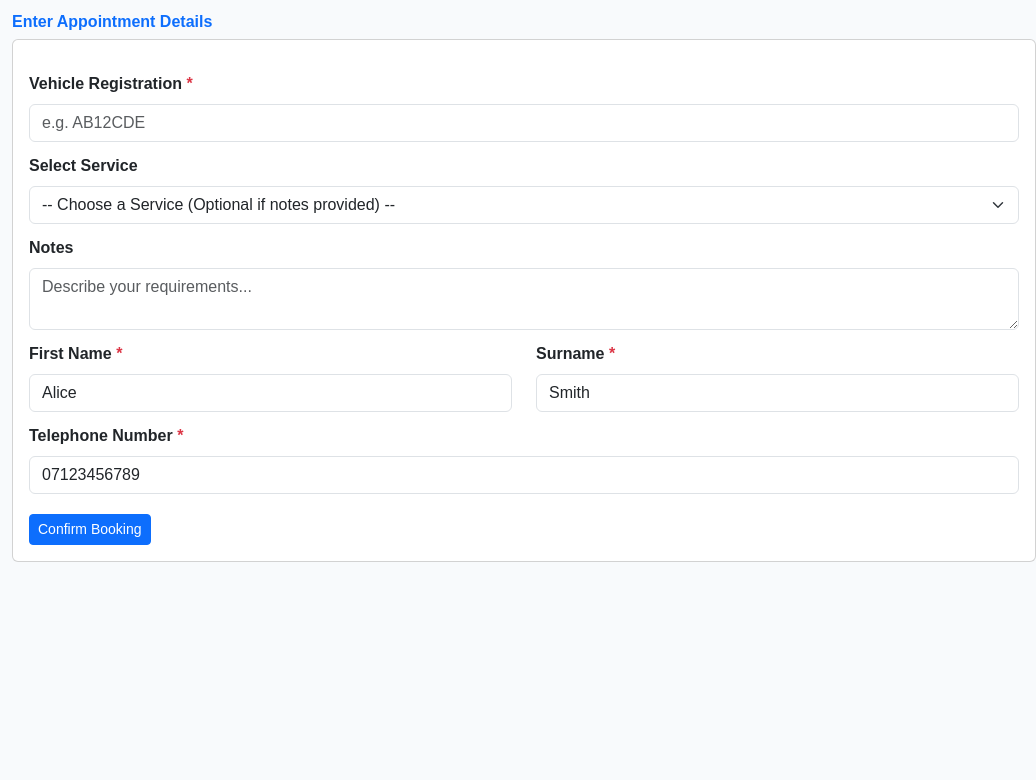
it: BookingDetailsForm Component › shows error message if neither service nor notes are provided
This screenshot has width=1036, height=780.
Expected: the field showing "Alice" below "First Name" is shown, top-left (29, 374), bottom-right (512, 412)
Type "AB12CDE" into the field with placeholder "e.g. AB12CDE" at [524, 123], box top-left (29, 104), bottom-right (1019, 142)
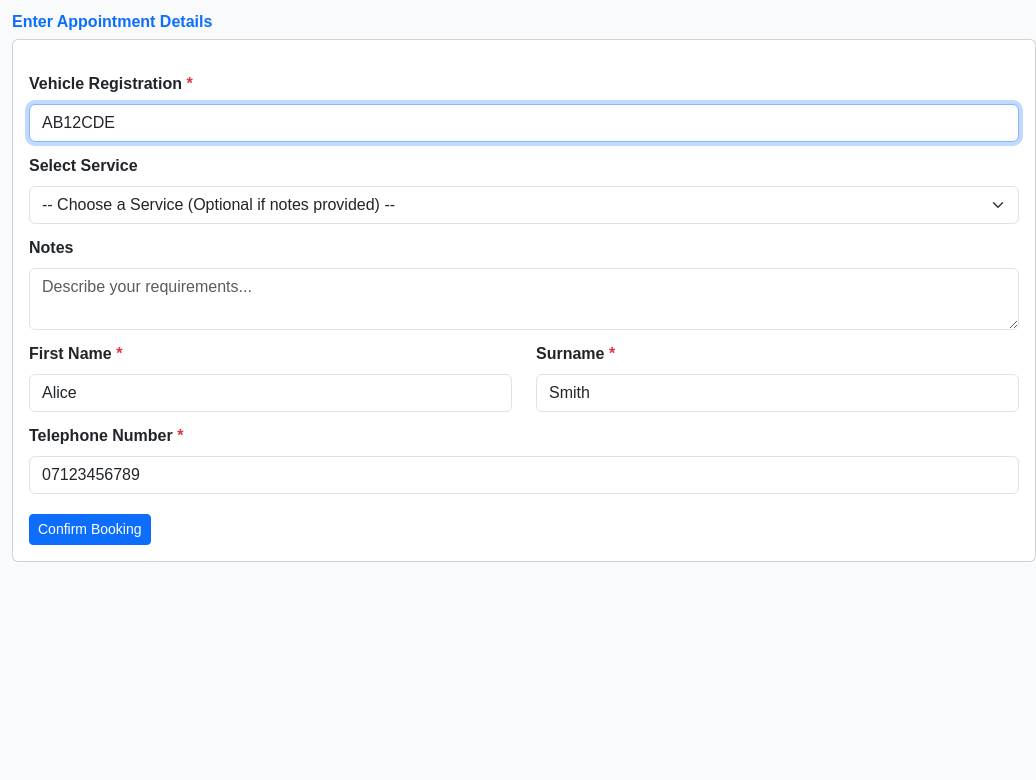
Click the button "Confirm Booking" at [90, 530], box top-left (29, 514), bottom-right (150, 545)
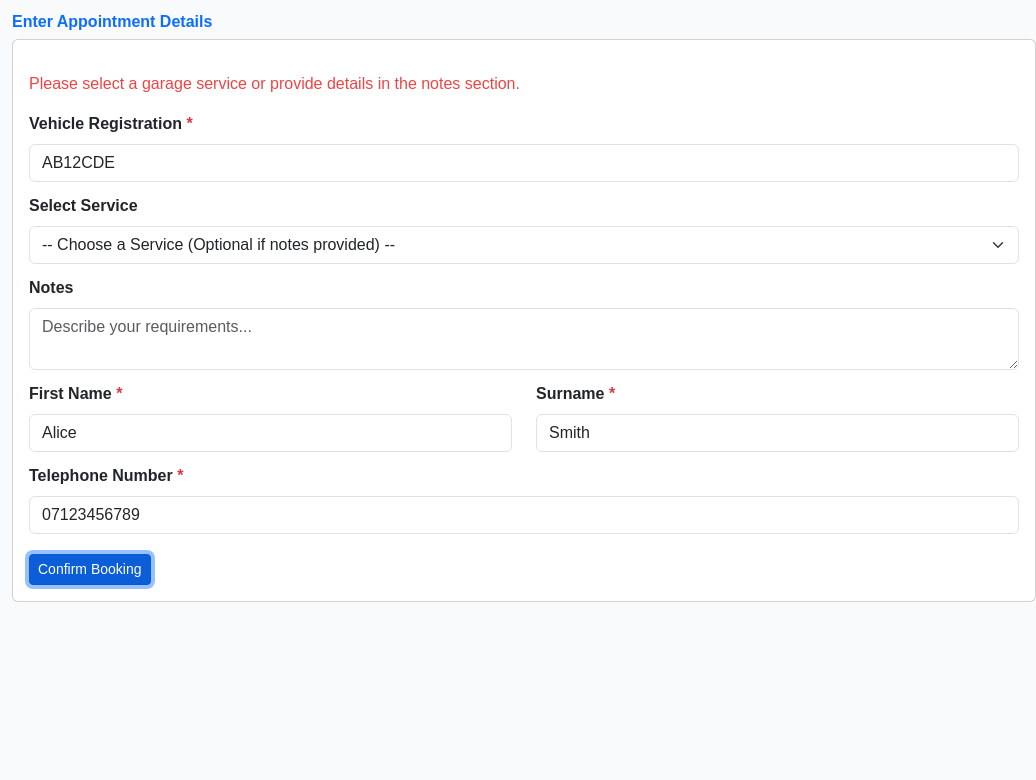
Now the text "Please select a garage service or provide details in the notes section." is shown, box top-left (29, 75), bottom-right (520, 92)
